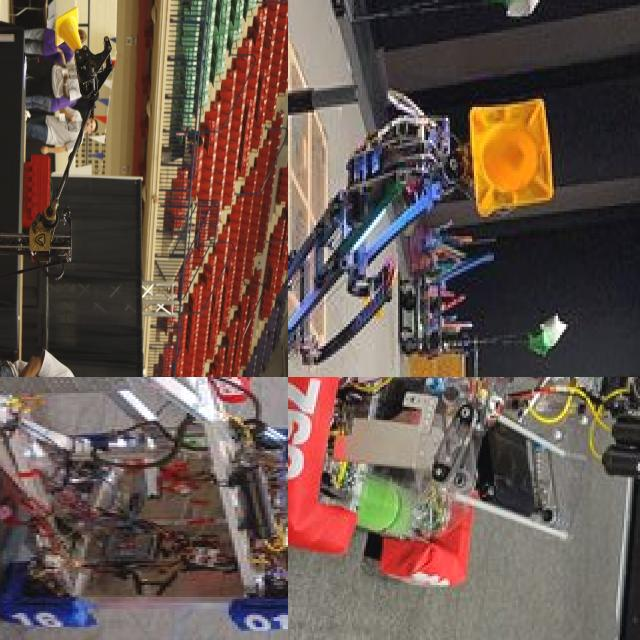FRC-Robots: (288, 377, 640, 609), (0, 377, 286, 640), (288, 86, 465, 377), (0, 0, 121, 326)
